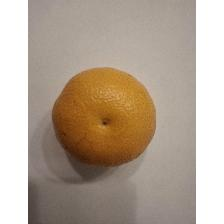Orange: (50, 64, 158, 170)
